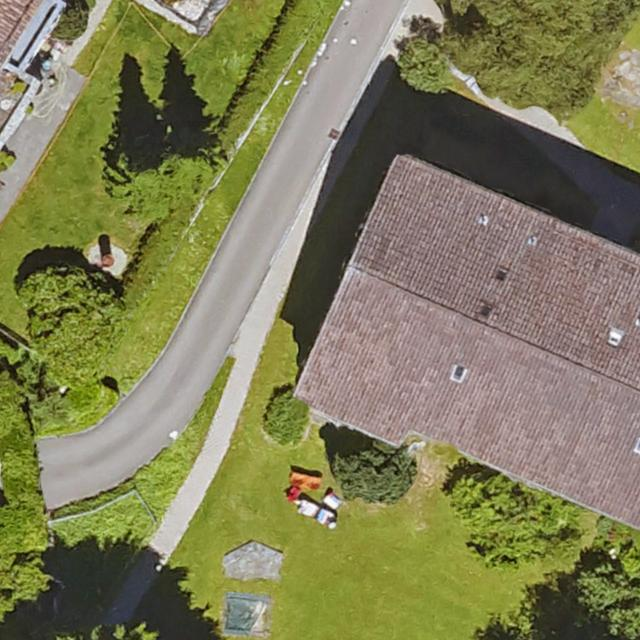tree: (440, 0, 632, 100), (21, 266, 121, 367), (576, 547, 640, 640), (102, 145, 172, 215), (336, 446, 416, 503), (163, 134, 212, 200), (397, 37, 450, 93), (43, 622, 162, 640)
